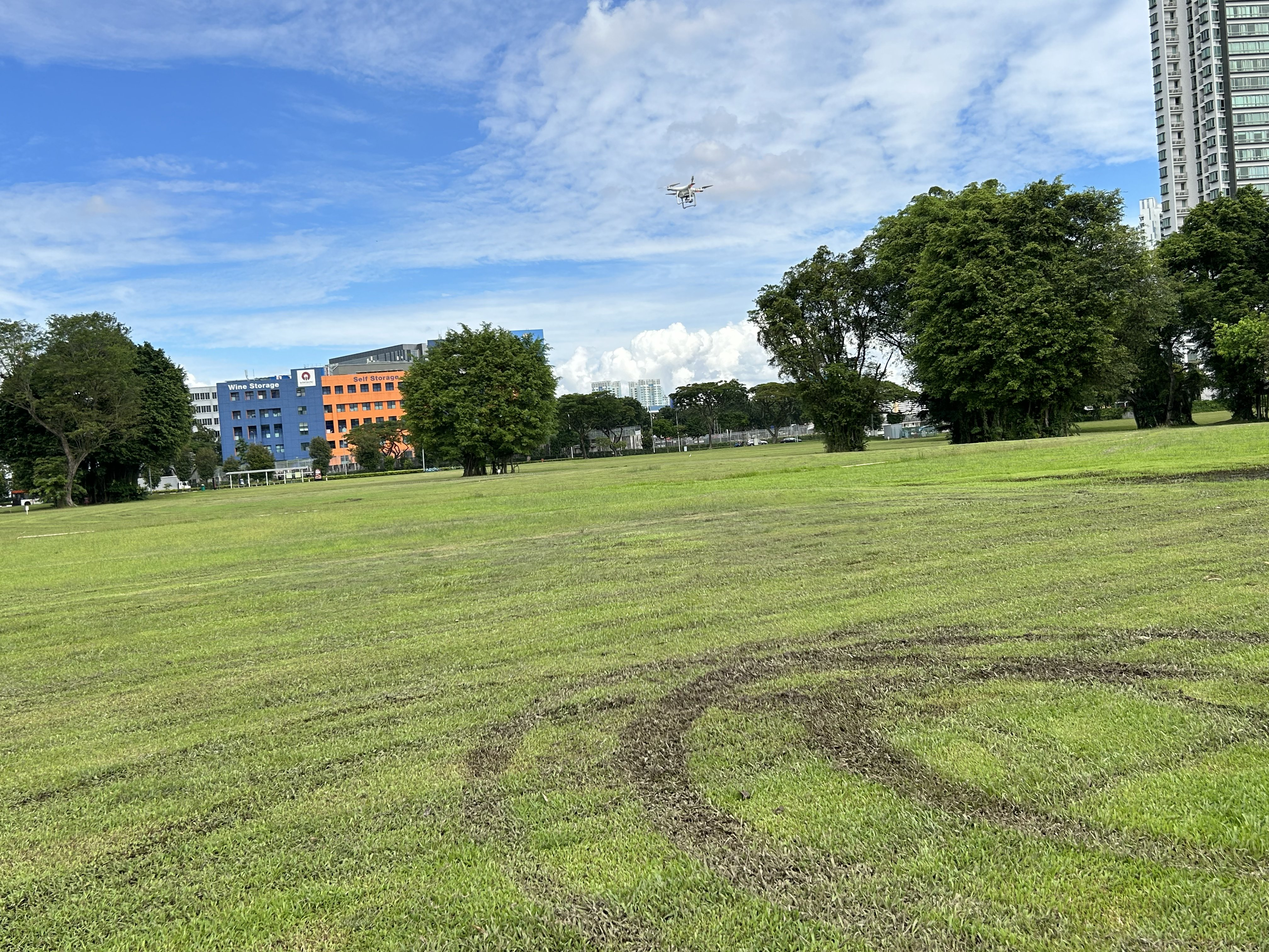drone_other: (665, 173, 715, 211)
